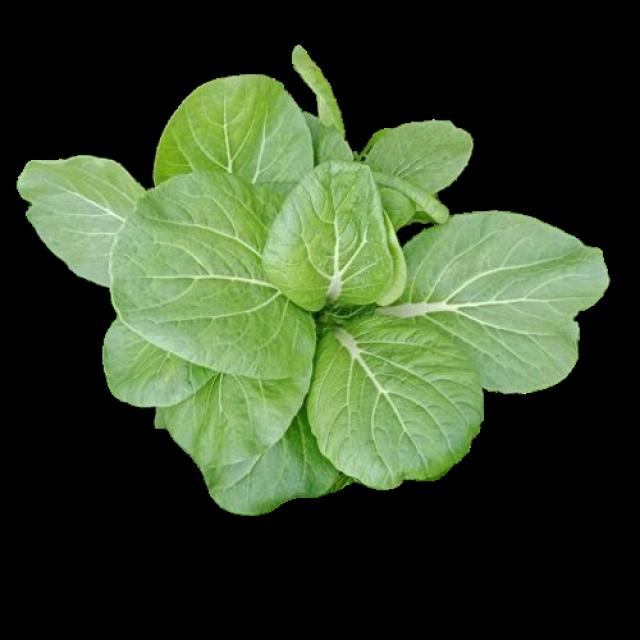healthy: (21, 42, 604, 506)
mature: (23, 45, 607, 508)
